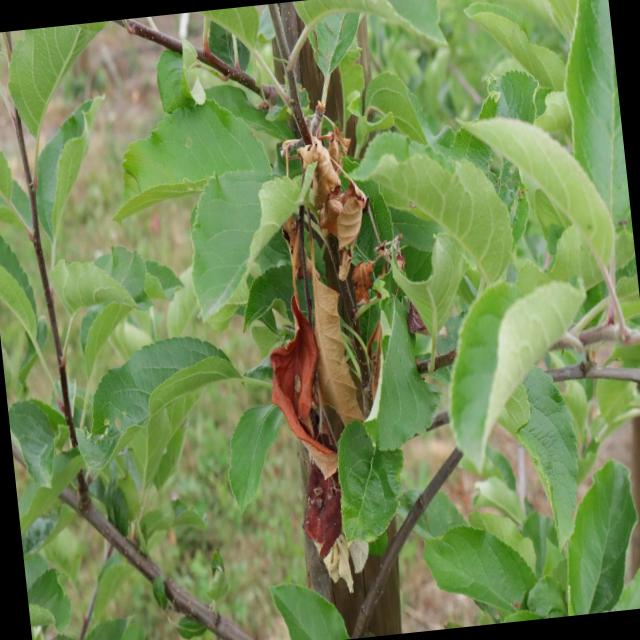-FireBlight-: (259, 101, 402, 554)
